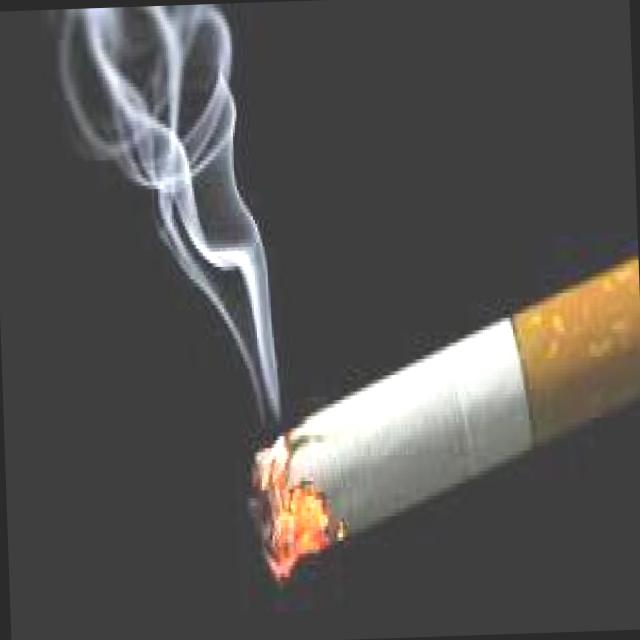smoke: (243, 247, 640, 581)
